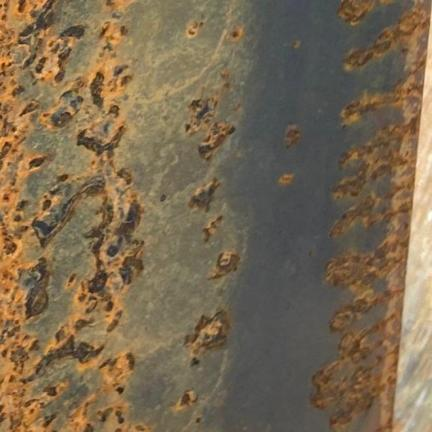karat: (0, 4, 88, 105)
